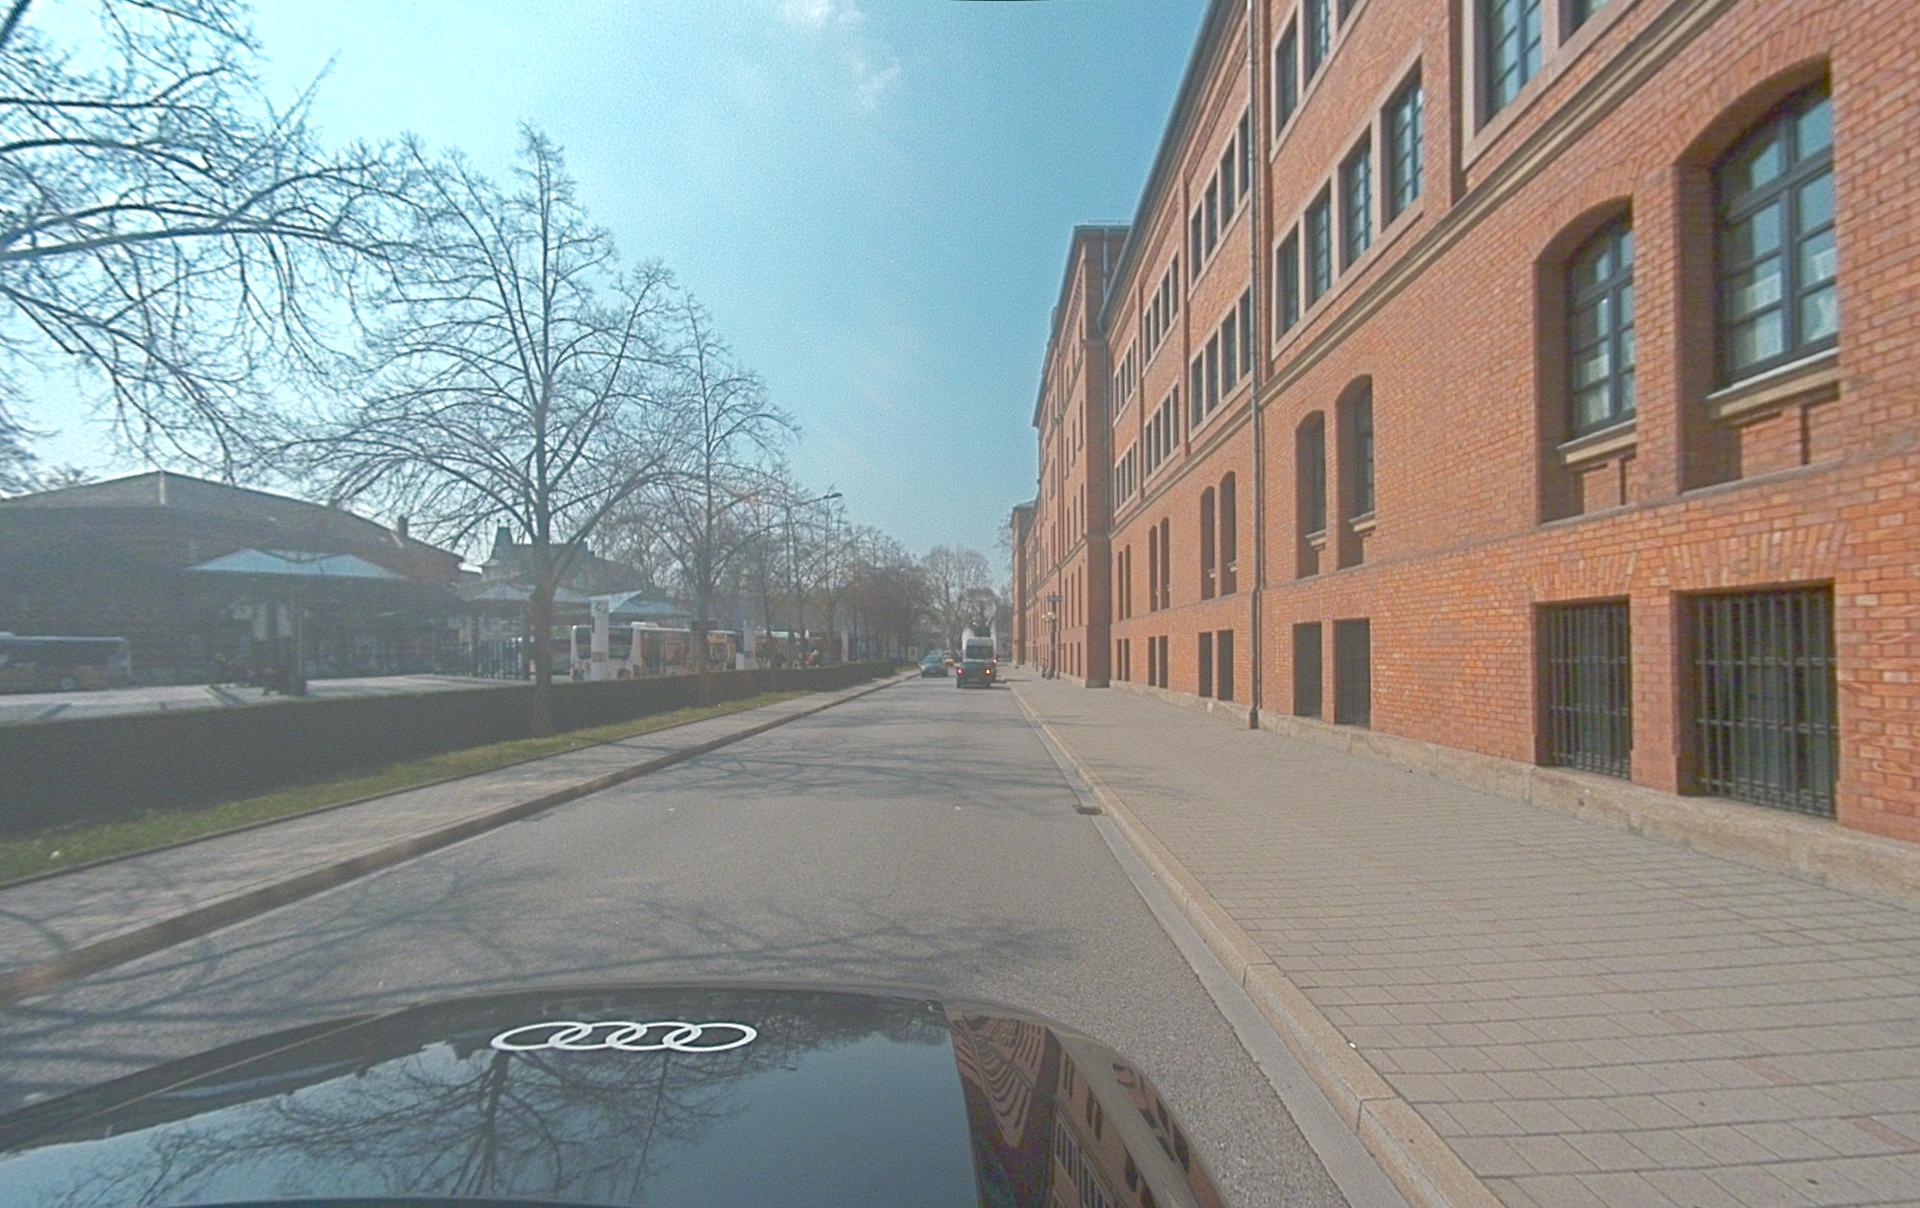car: (919, 652, 949, 678)
